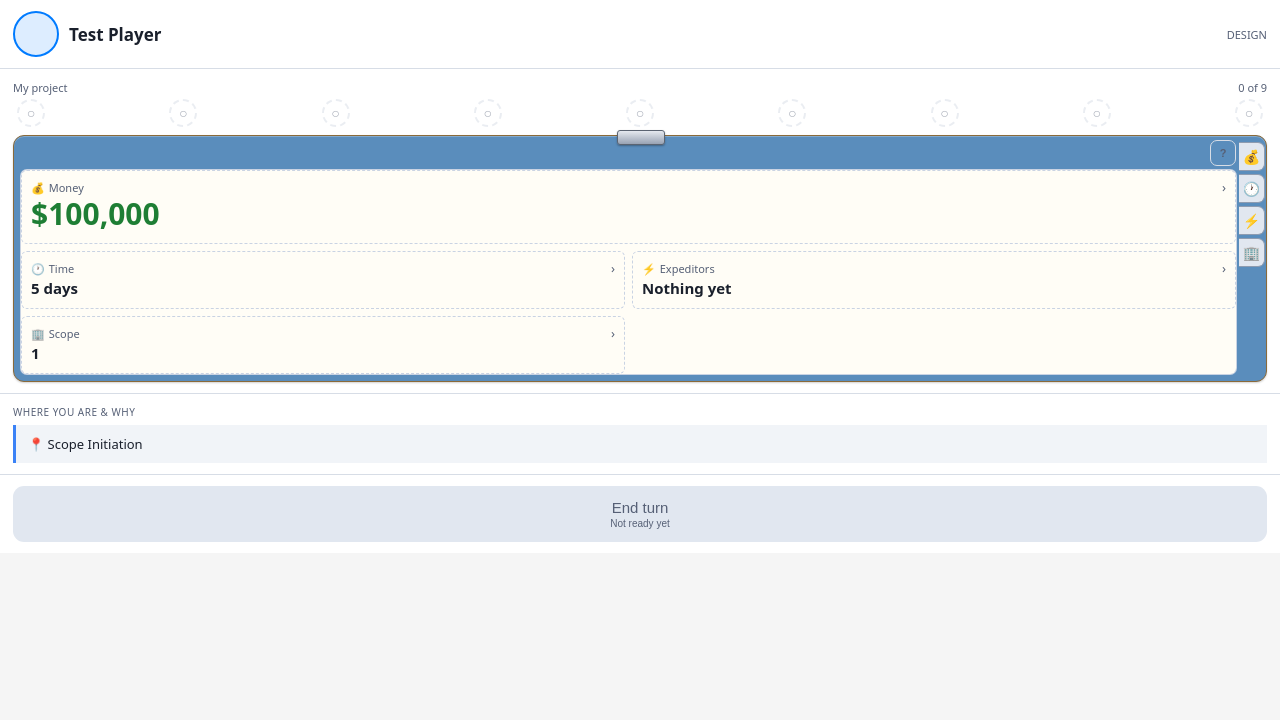
PlayerPanelV2 — at-a-glance boxes replace "What's affecting you" (fb:adad1561) › the Money box opens the money page
The width and height of the screenshot is (1280, 720).
Click the button with test id "glance-money" at (66, 187), box [21, 170, 1236, 244]
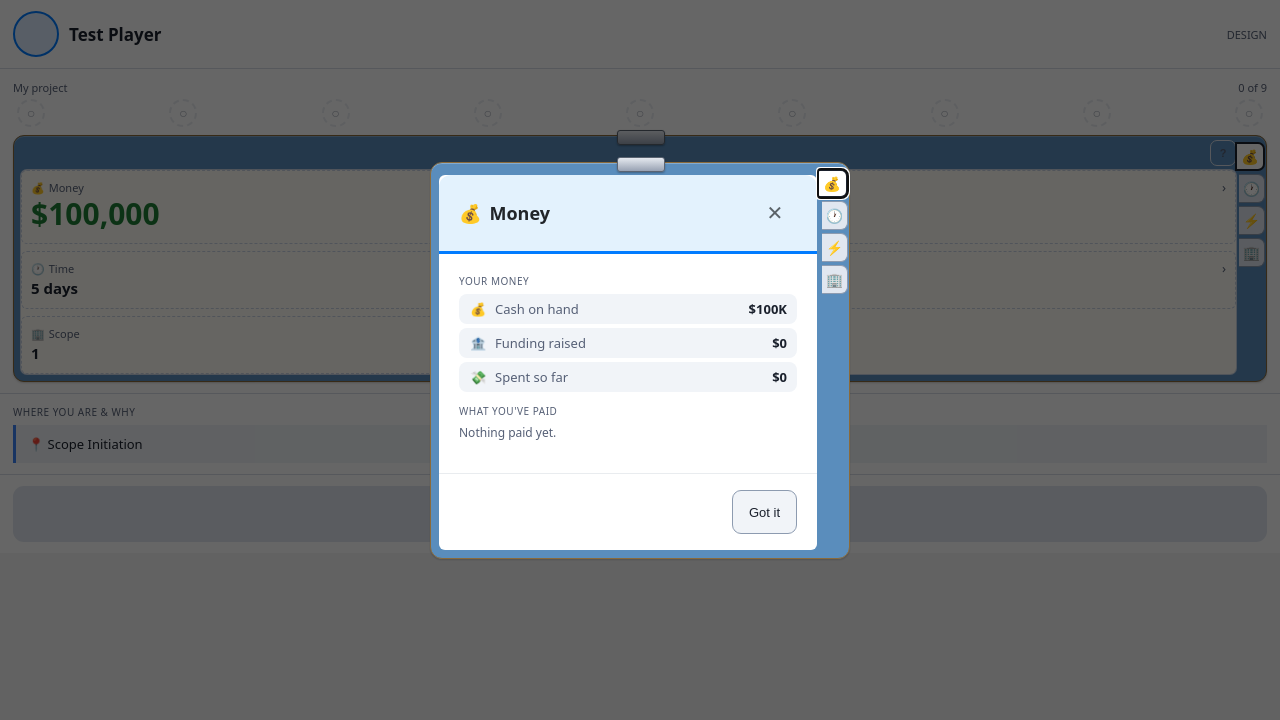
Expected: the dialog with test id "player-numbers-v2" shows "Cash on hand", [495, 300, 579, 318]
